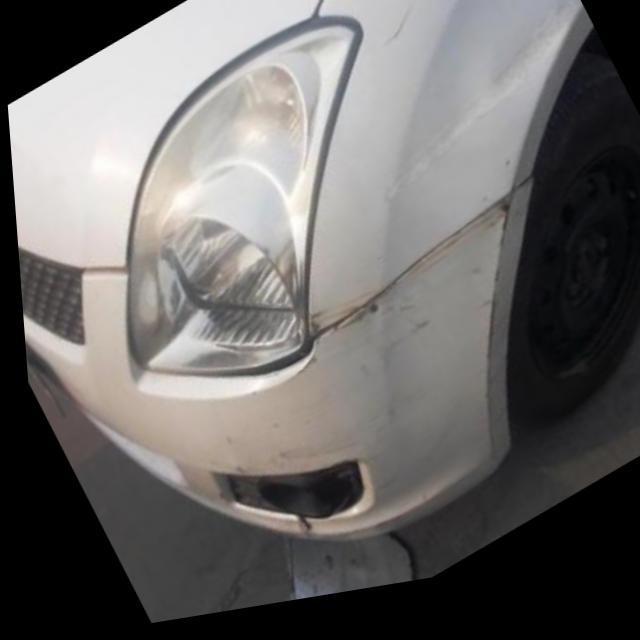dent: (374, 7, 583, 218)
dislocated part: (298, 178, 526, 357)
scratch: (469, 272, 499, 460), (368, 301, 429, 373), (264, 439, 367, 481), (382, 0, 442, 66)
